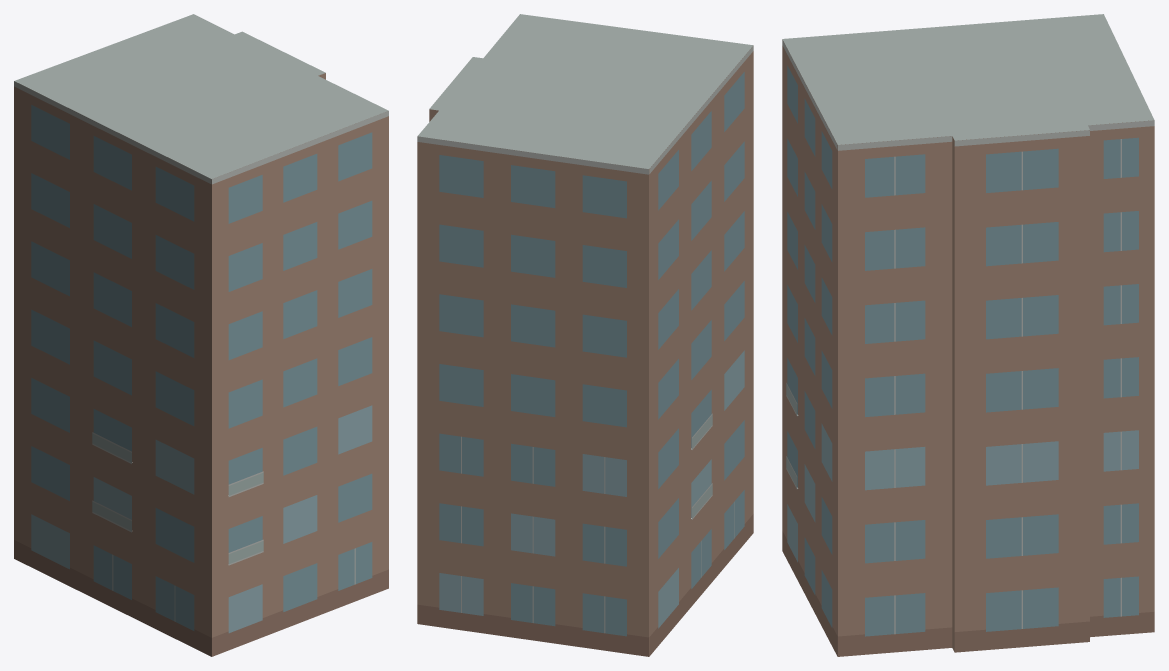
Rendered from survey-upis-32668342.glb.
3 renders of one model, left to right at view 1: azimuth 30°, elevation 25°; view 2: azimuth 150°, elevation 25°; view 3: azimuth 270°, elevation 25°, orthographic. The views are drawn at different scales.
Visible parts, largest first — view 1: survey-upis-32668342.tmp; view 2: survey-upis-32668342.tmp; view 3: survey-upis-32668342.tmp.
Part boxes in pixels (x1=…): survey-upis-32668342.tmp: x1=14, y1=14, x2=388, y2=656; survey-upis-32668342.tmp: x1=417, y1=14, x2=753, y2=656; survey-upis-32668342.tmp: x1=782, y1=14, x2=1154, y2=656.
Bounding box in the file's own units: 11.78 × 21.45 × 14.15.
